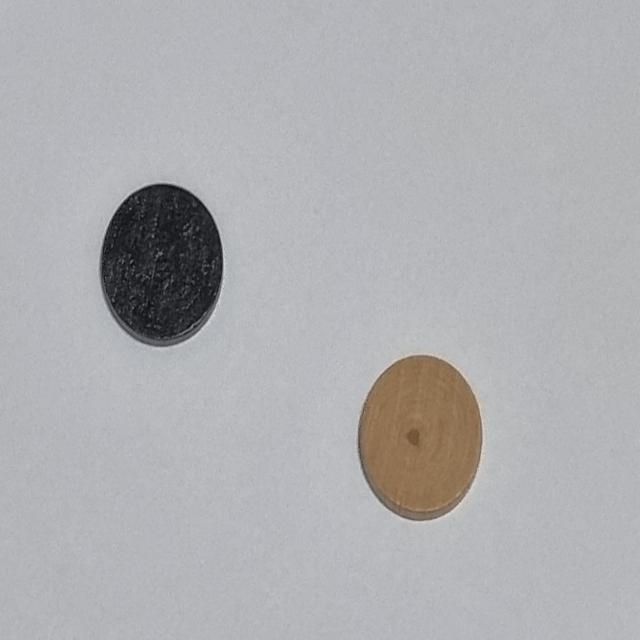black: (71, 158, 239, 372)
white: (323, 302, 502, 550)
